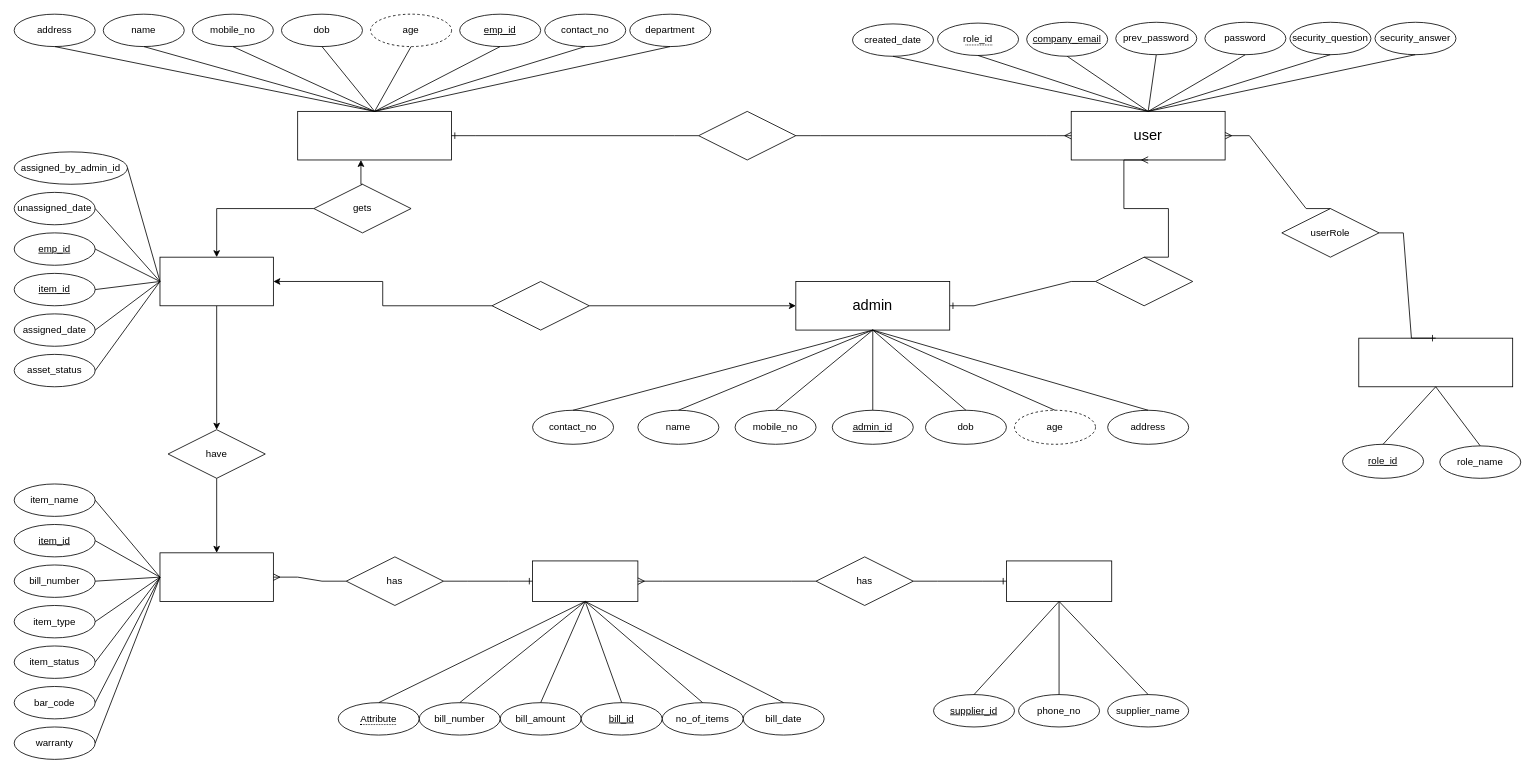
The diagram is 1535 pixels wide and 774 high, and some of its shapes have lost their labels. The centre of each missing label's shape, as x and y in pixels:
assets: the point at 216,281
assigns: the point at 540,305
bill: the point at 585,580
employee: the point at 374,135
has role admin: the point at 1144,281
has role employee: the point at 747,135
item: the point at 216,576
role: the point at 1435,362
supplier: the point at 1059,580
